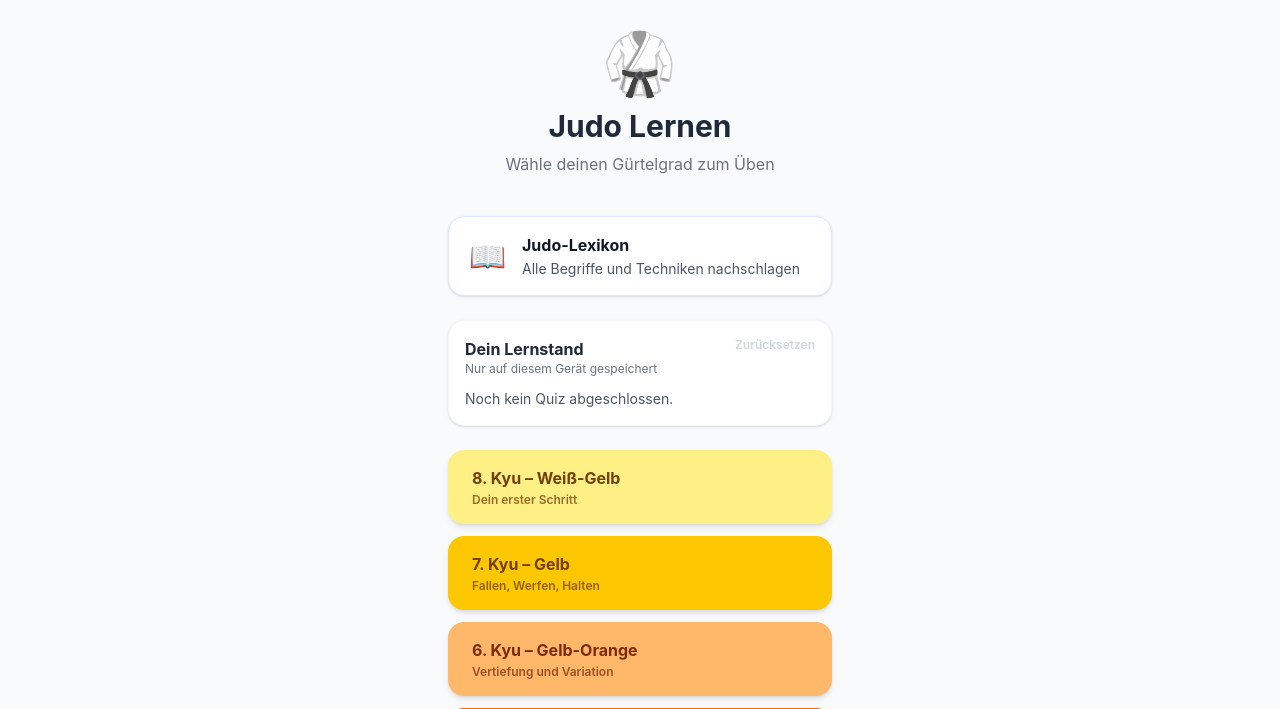
Test: App – integration › navigates directly to Quiz when a grade is selected
The width and height of the screenshot is (1280, 709).
Click the button with test id "grade-btn-kyu8" at [546, 478], box [448,450,832,524]
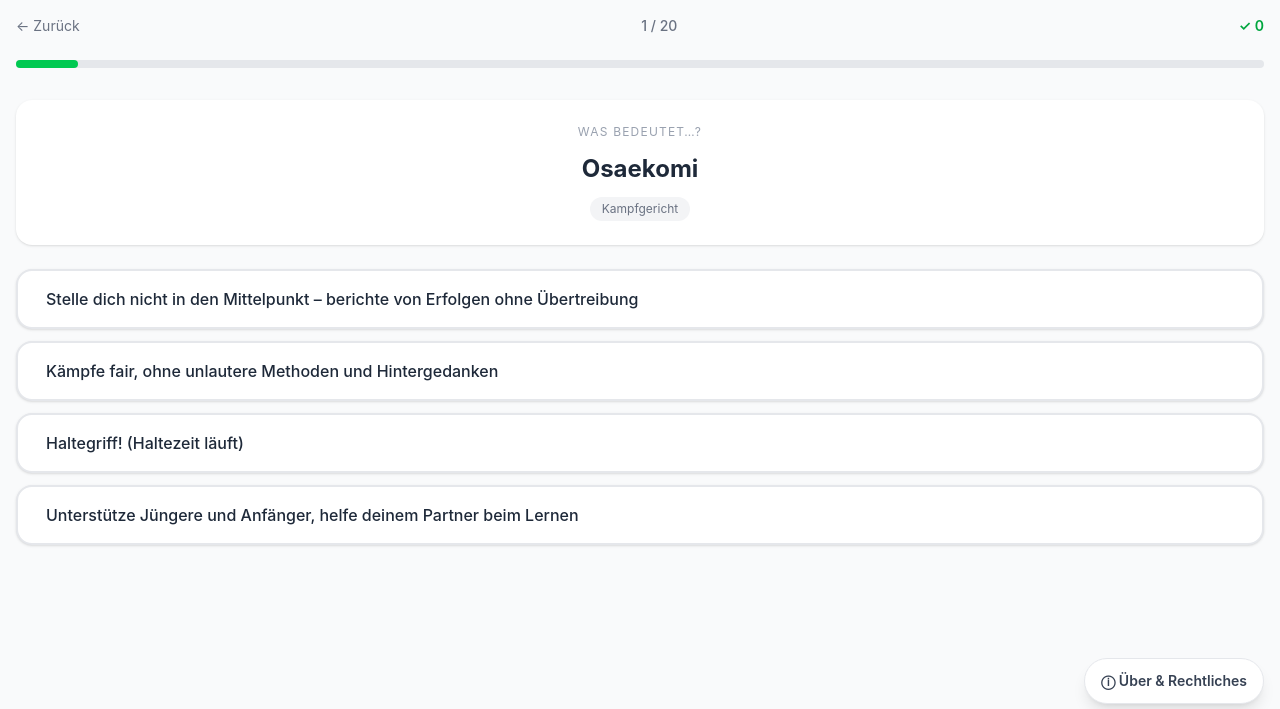
Now the heading "Osaekomi" is shown, box [582,154,698,183]
